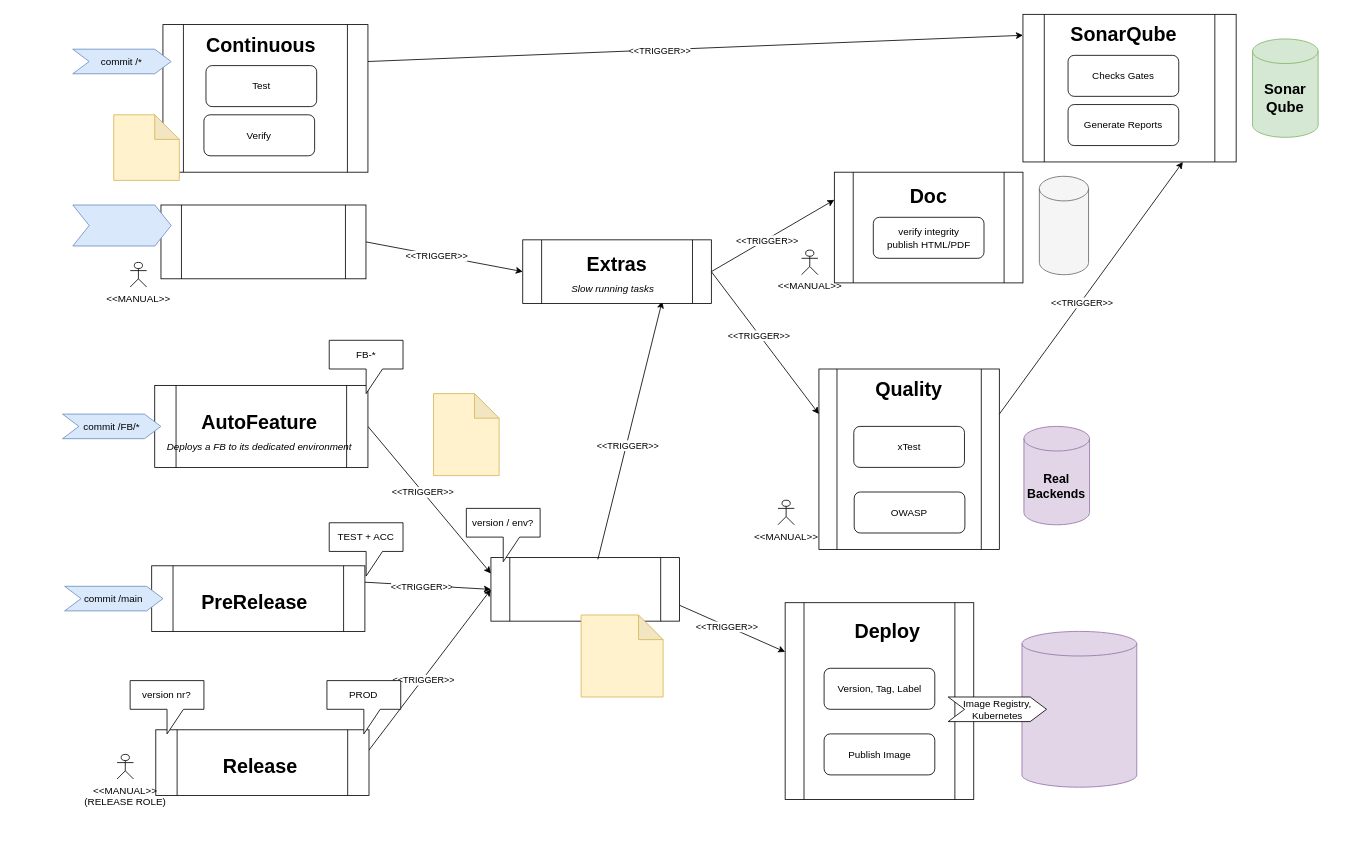
Image size: 1364x867. Some labels were removed from this diagram. Each missing label, with the box of its shape:
Cloud Provider: (1021, 631, 1137, 787)
could use it to deploy specific thing to DEV: (580, 614, 663, 697)
cron 0:00 & if changes: (72, 204, 171, 246)
Deploy Facade: (490, 557, 680, 621)
maybe not necessary?: (113, 114, 179, 180)
Nightly: (160, 204, 366, 279)
restrict threshold! to once every x minutes: (433, 393, 499, 476)
Web Repo: (1039, 175, 1089, 275)
